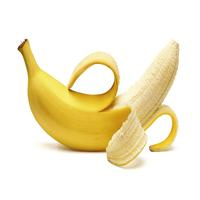banane: (16, 15, 188, 175)
